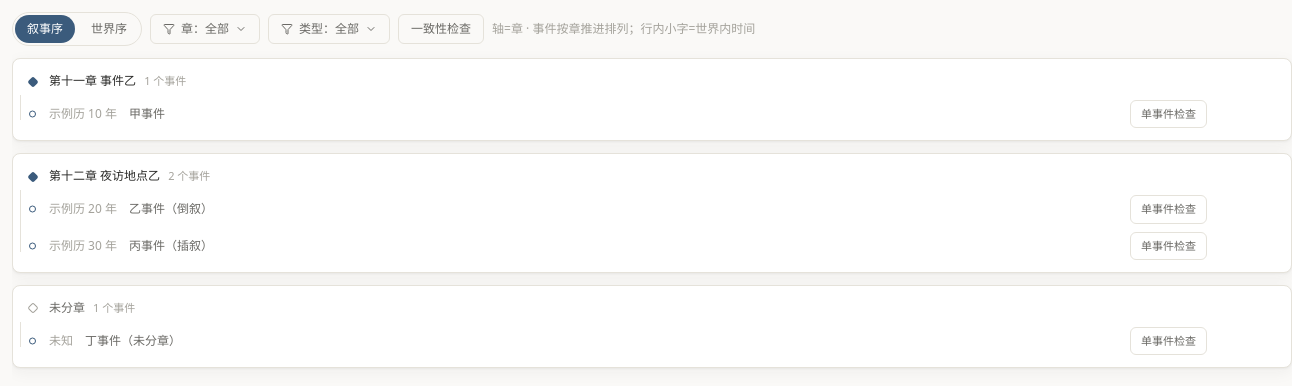
#1374 时间线筛选（按章 / 按事件类型，两序共用） › F2 章筛选面板：点按钮 → 面板展开（全部章节 + 各章 + 未分章）；选某章 → 只显示该章事件（反向：其他章不出现）
This screenshot has width=1292, height=386.
Click the button with test id "tl-filter-chapter" at (205, 29), box [150,14,260,44]
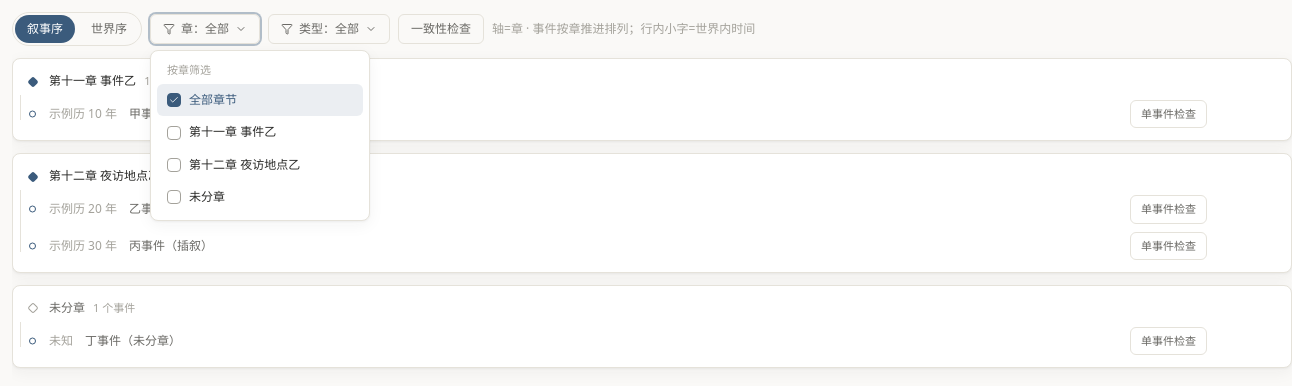
Expected: the button with test id "tl-fp-item-all" is shown, [157,84,363,116]
Expected: the button with test id "tl-fp-item-c11" is shown, [157,116,363,149]
Expected: the button with test id "tl-fp-item-c12" is shown
# 选 c12 → 只显示 c12 的两条（evC / evD）
Click the button with test id "tl-fp-item-c12" at (260, 165), box [157,149,363,181]
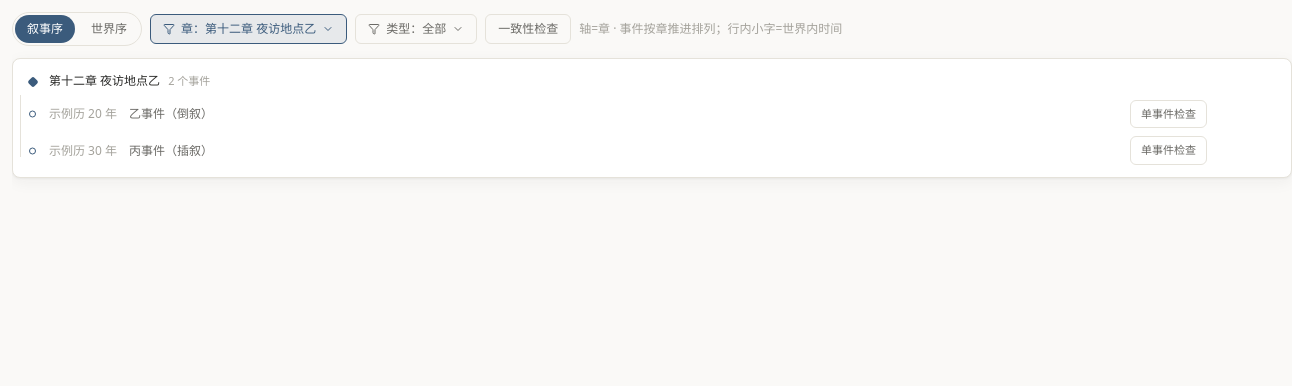
Expected: the list item with test id "tl-axis-node-evA" is gone
Expected: the list item with test id "tl-axis-node-evB" is gone
Expected: the button with test id "tl-filter-chapter" shows "第十二章 夜访地点乙", [150,14,347,44]
